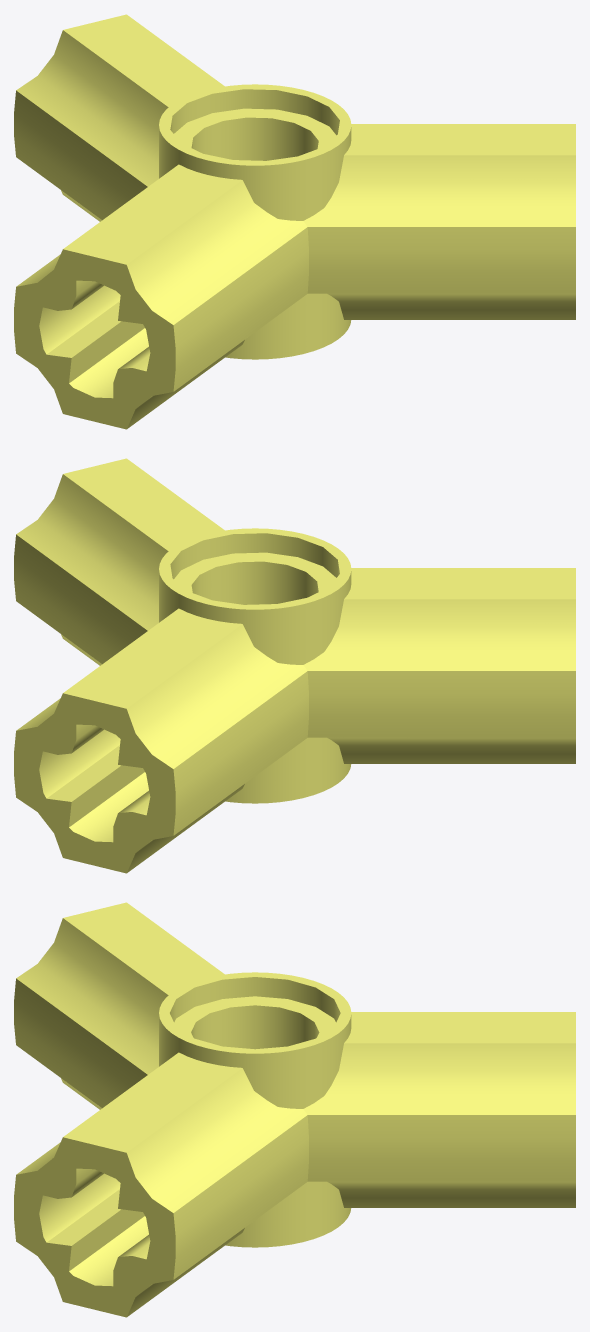
The picture shows the model from 3 angles, top to bottom: view 1: azimuth 30°, elevation 25°; view 2: azimuth 150°, elevation 25°; view 3: azimuth 270°, elevation 25°; orthographic projection.
Visible parts, largest first — view 1: 10288.dat; view 2: 10288.dat; view 3: 10288.dat.
Boxes of the visible parts, bbox=[...] form: 10288.dat: bbox=[14, 14, 575, 429]; 10288.dat: bbox=[14, 458, 575, 873]; 10288.dat: bbox=[14, 902, 575, 1317].
Bounding box in the file's own units: 0.0243 × 0.008 × 0.021.
